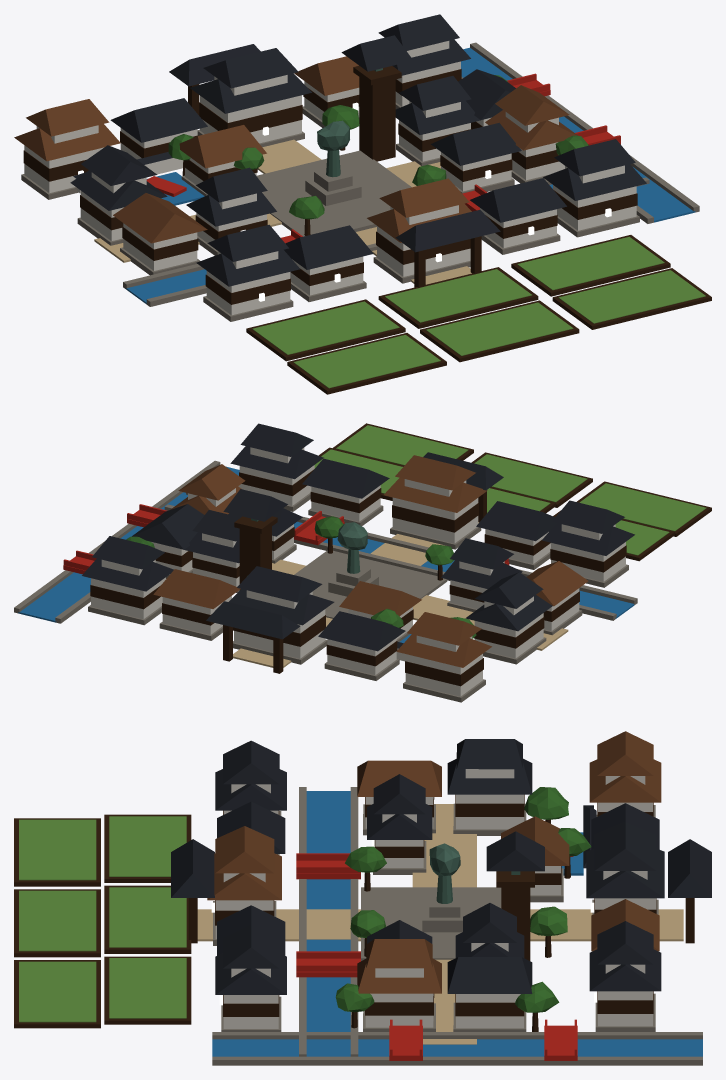
File: human-village.glb
3 renders of one model, top to bottom at view 1: azimuth 30°, elevation 25°; view 2: azimuth 150°, elevation 25°; view 3: azimuth 270°, elevation 25°, orthographic. The views are drawn at different scales.
Visible parts, largest first — view 1: HumanVillage_Opaque; view 2: HumanVillage_Opaque; view 3: HumanVillage_Opaque.
Boxes of the visible parts, x1,y1,x2,y2 form: HumanVillage_Opaque: (14, 14, 711, 394); HumanVillage_Opaque: (14, 423, 711, 702); HumanVillage_Opaque: (14, 731, 711, 1065).
Bounding box in the file's own units: 100 × 22.45 × 108.
